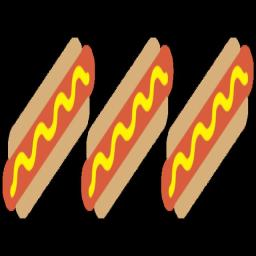hotdog: (80, 25, 174, 221), (160, 36, 253, 221), (4, 35, 94, 219)
